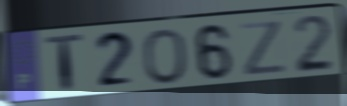2: (92, 30, 141, 94), (291, 13, 337, 75)
6: (193, 21, 236, 84)
O: (139, 26, 189, 87)
T: (43, 32, 85, 97)
Z: (239, 18, 290, 78)
